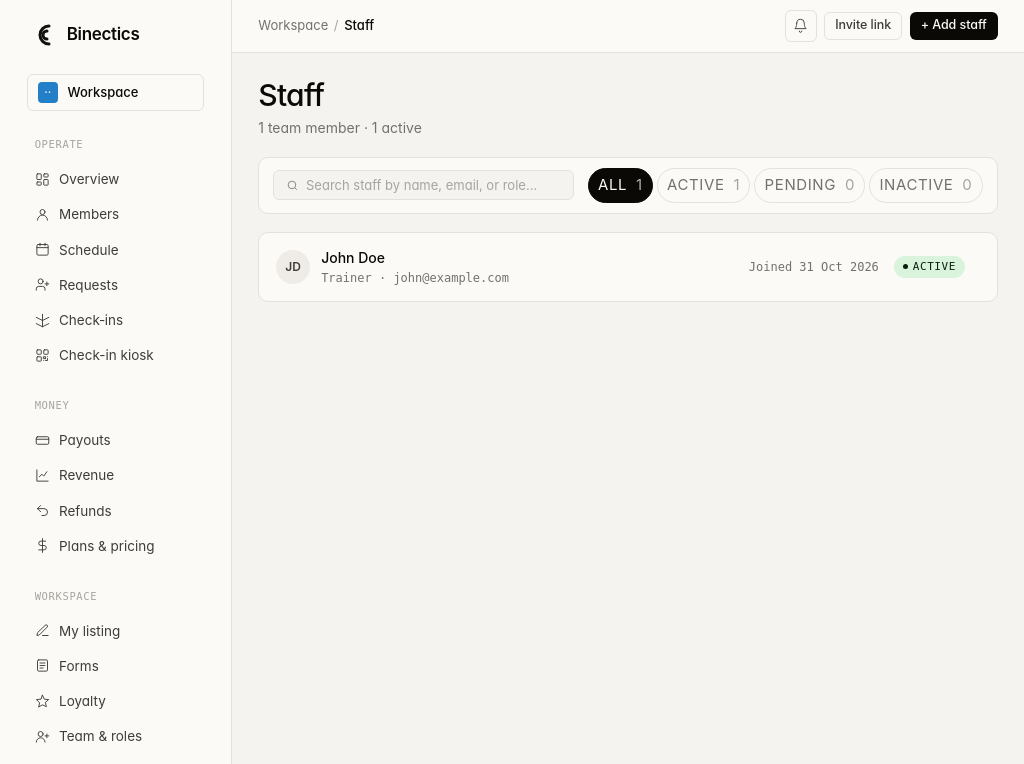
Test: Staff List Page › shows a distinct empty state when filters match nothing
The width and height of the screenshot is (1024, 764).
Check: the link "John Doe" is shown, box [321, 248, 385, 266]
Type "nobody" into the field labelled "Search staff". click: (434, 185)
box: [306, 176, 562, 195]
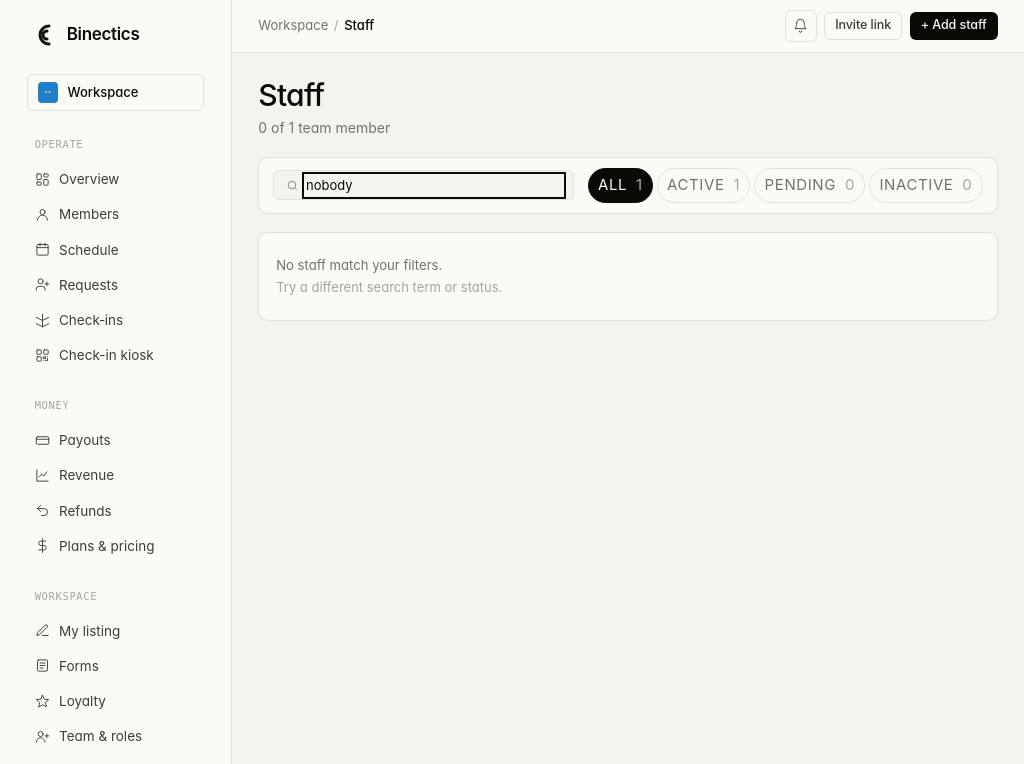
Check: the text "No staff match your filters." is shown, box [276, 257, 442, 273]
